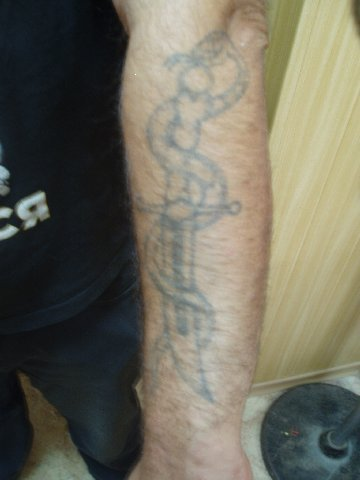tatu7_zmeya: (142, 21, 252, 414)
